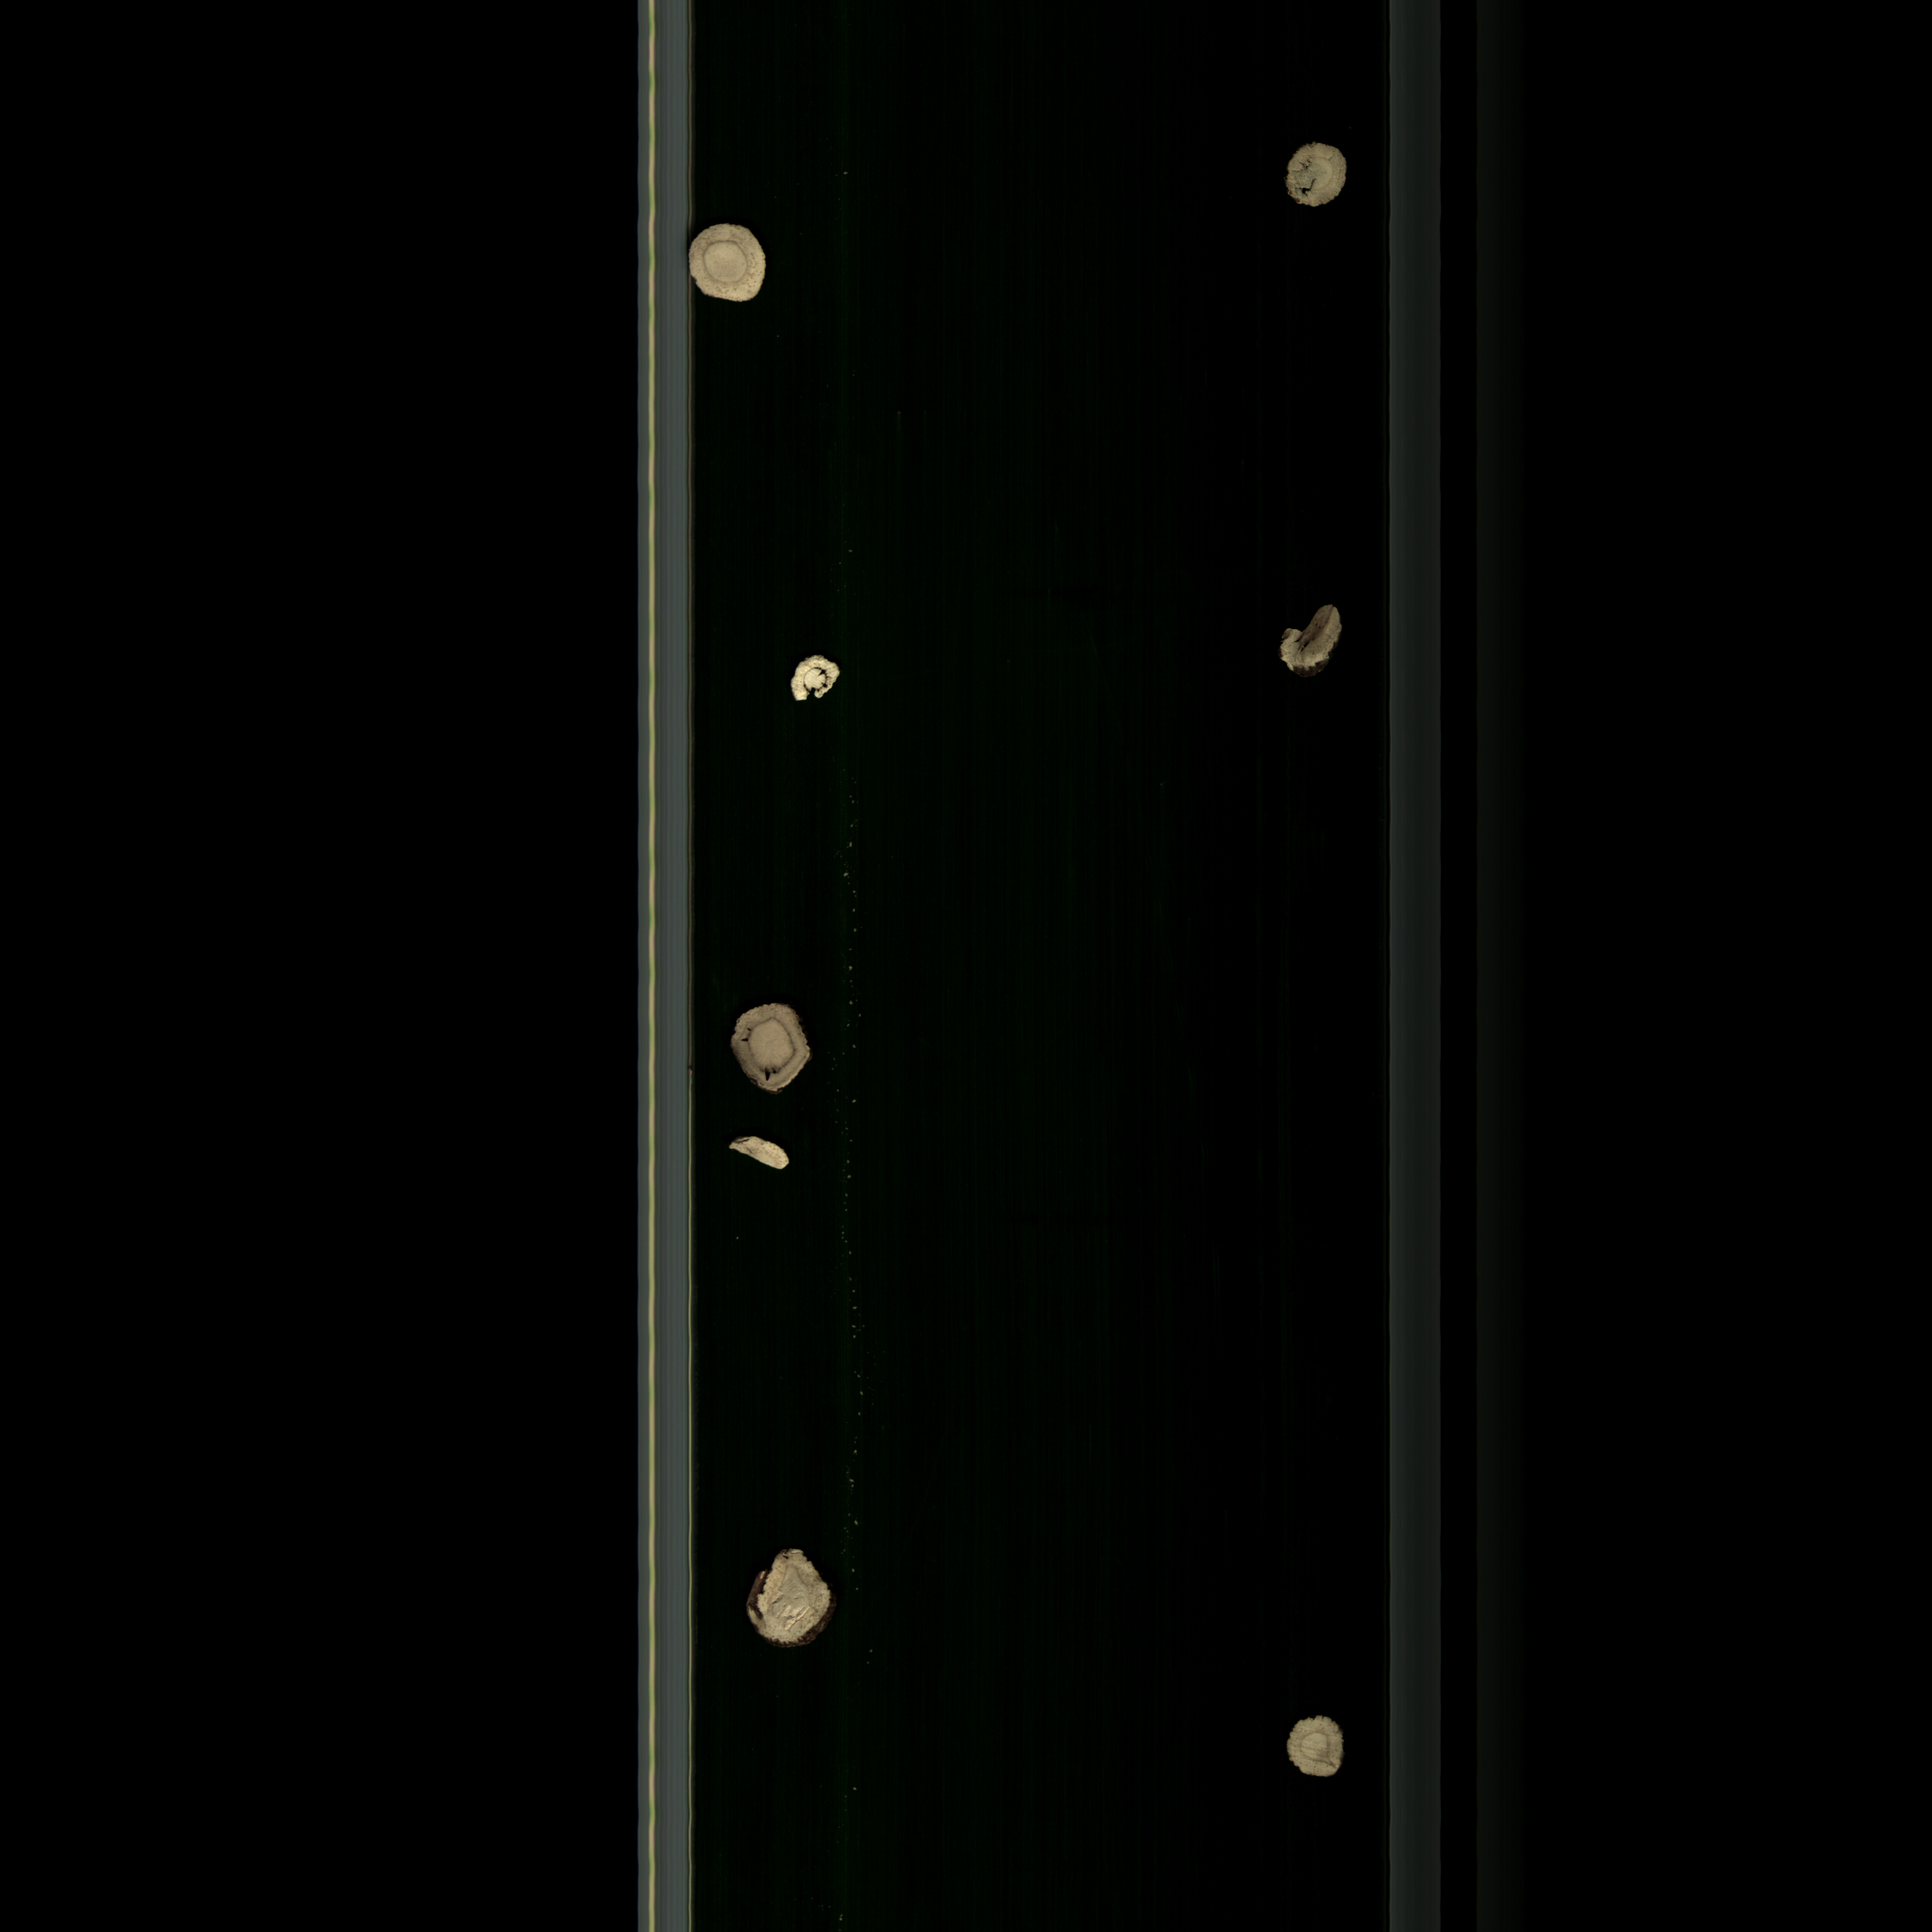debris: (736, 1532, 840, 1658), (773, 646, 846, 715)
dreg: (722, 1129, 794, 1185)
hole: (718, 998, 819, 1106), (1270, 140, 1359, 219)
moldy: (1270, 593, 1357, 686)
